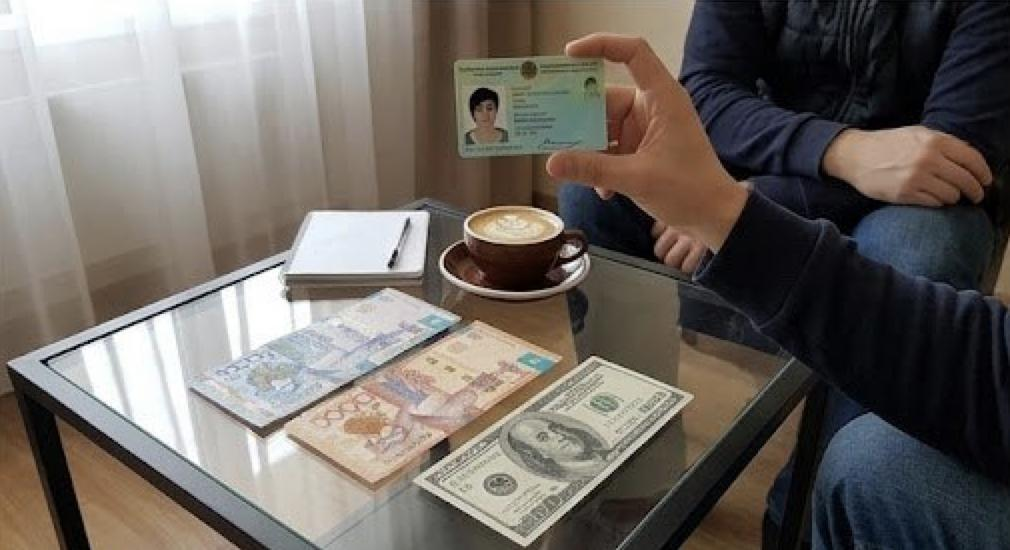cash_stack: (413, 354, 704, 544), (291, 320, 563, 483), (188, 286, 460, 436)
document: (448, 54, 623, 164)
